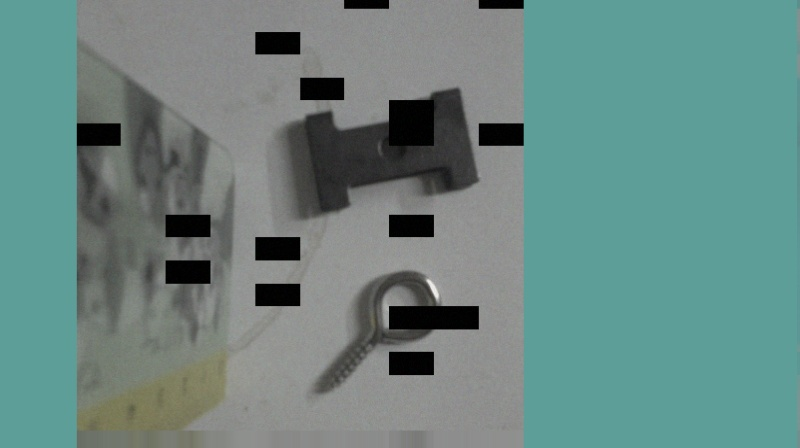O001: (309, 268, 445, 402)
O002: (304, 85, 480, 221)
